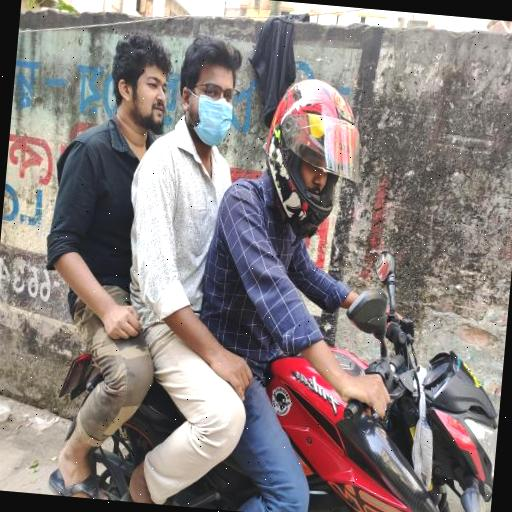helmet: (252, 70, 378, 268)
triple riding: (23, 13, 512, 512)
